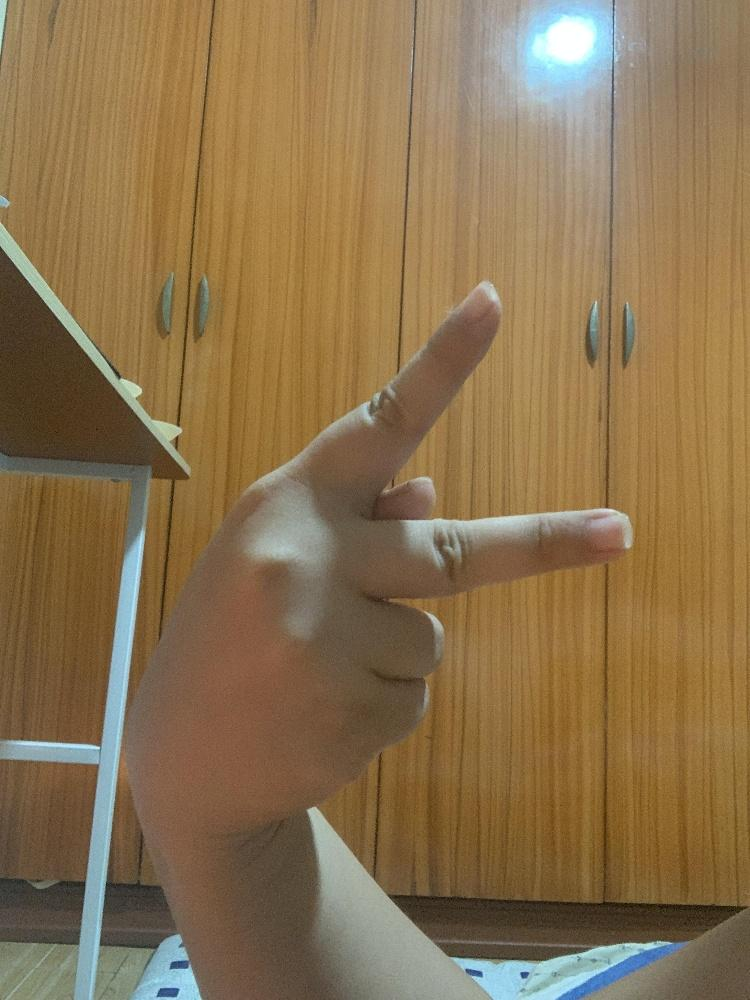k: (115, 281, 634, 826)
